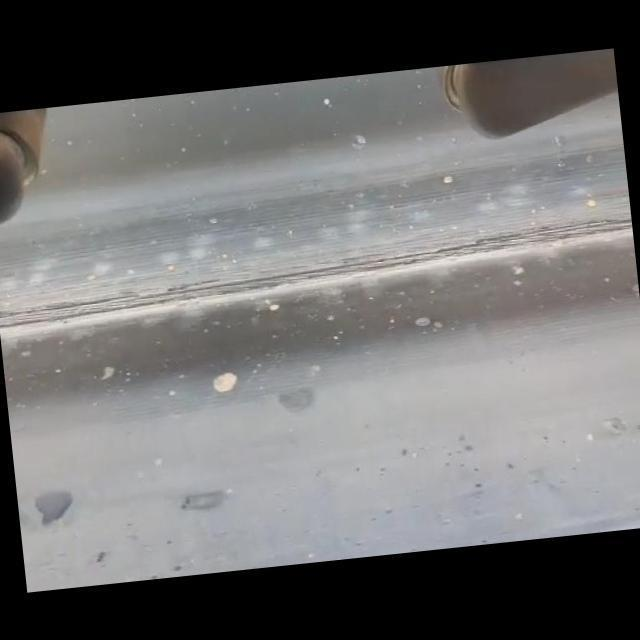Wear: (0, 206, 640, 331)
